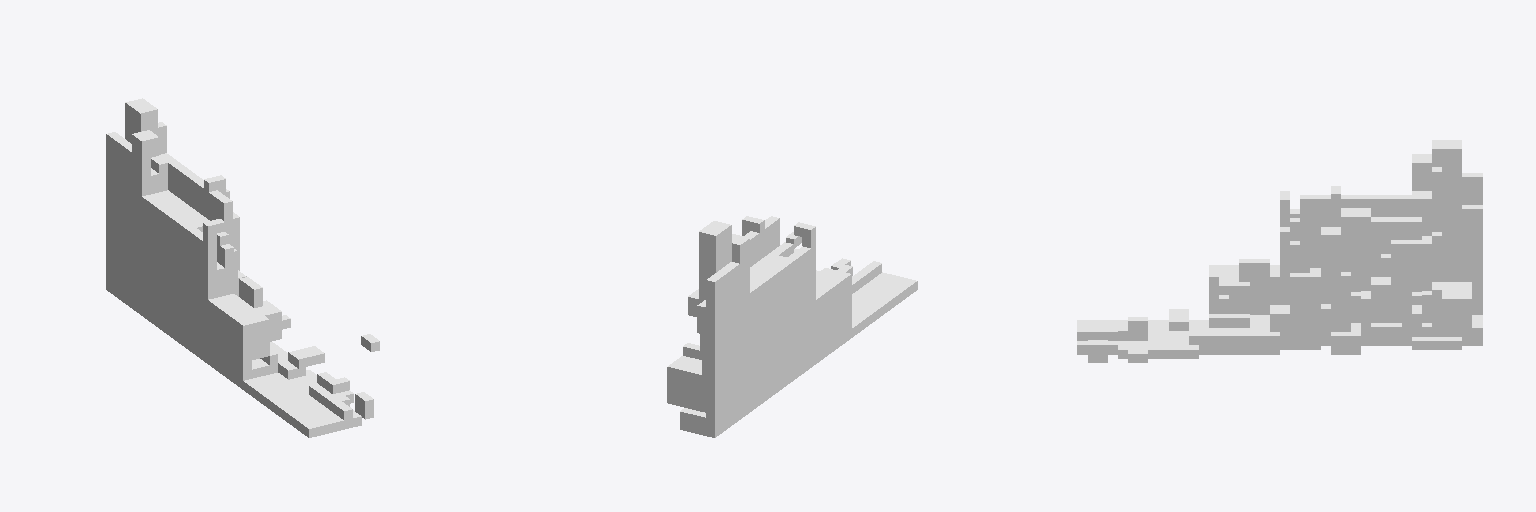
Rendered from finalwall1.obj.
3 renders of one model, left to right at view 1: azimuth 30°, elevation 25°; view 2: azimuth 150°, elevation 25°; view 3: azimuth 270°, elevation 25°, orthographic.
Visible parts, largest first — view 1: finalwall1; view 2: finalwall1; view 3: finalwall1.
Boxes of the visible parts, x1,y1,x2,y2 form: finalwall1: [106, 98, 379, 437]; finalwall1: [667, 216, 917, 437]; finalwall1: [1077, 140, 1482, 362].
Size of the model in its own units: 11 by 21 by 40.